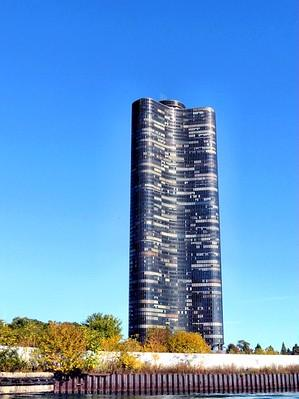building: (127, 93, 226, 354)
